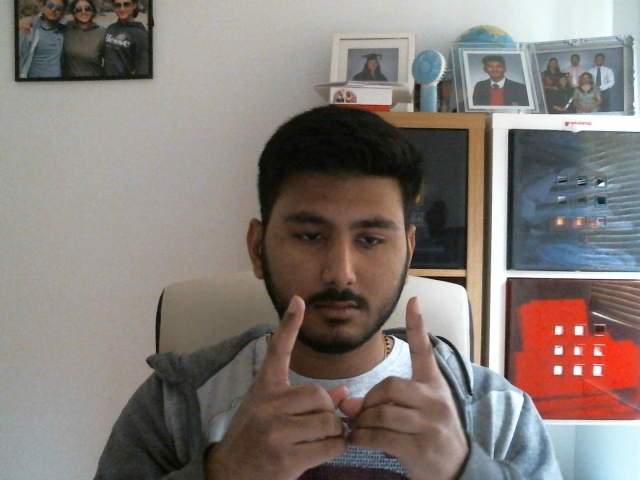meet: (239, 294, 439, 456)
